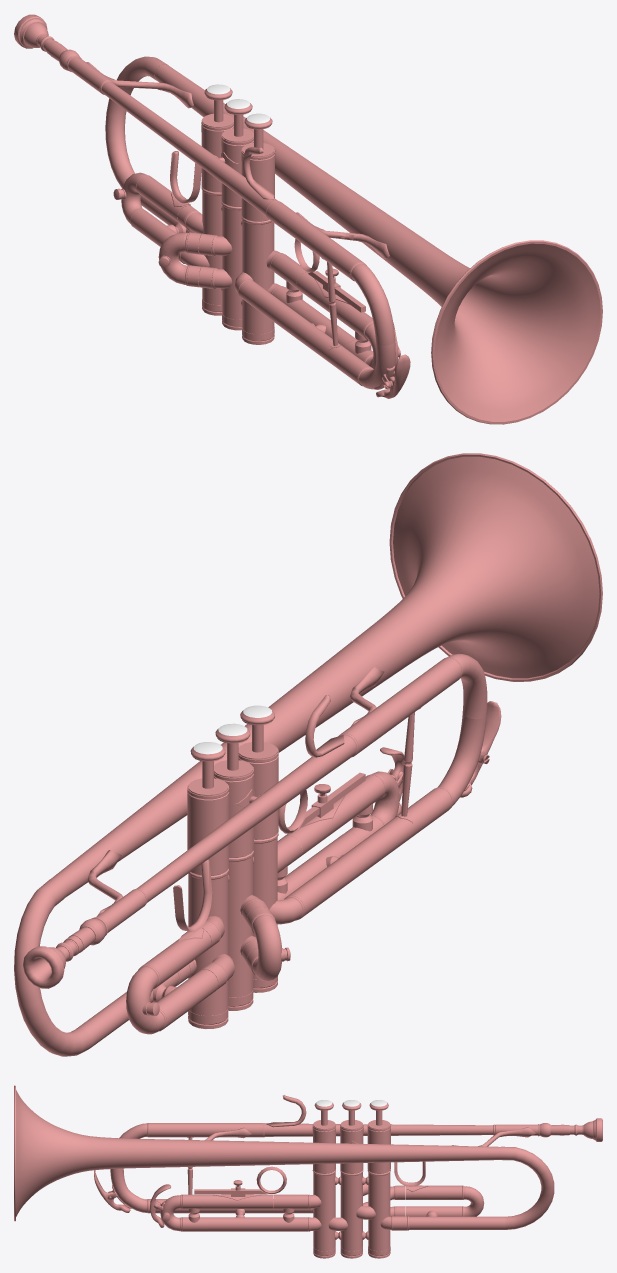
File: Trumpet_jwink_01.obj
3 views of the same model, one above another, from view 1: azimuth 30°, elevation 25°; view 2: azimuth 150°, elevation 25°; view 3: azimuth 270°, elevation 25° (orthographic). The views are drawn at different scales.
Parts seen in each view (by area): view 1: Trumpet_Body, mouthpiece, Handle_3, spit_valve, Handle_1, Valvle_1, Valve_2, Handle_2, Valve_3; view 2: Trumpet_Body, mouthpiece, Handle_3, Handle_1, spit_valve, Handle_2, Valve_2, Valve_3, Valvle_1; view 3: Trumpet_Body, Handle_3, mouthpiece, spit_valve, spit_valve2, Handle_2, Handle_1, Valve_2, Valve_3, Valvle_1.
Part boxes in pixels (x1=…): Trumpet_Body: x1=59, y1=49, x2=602, y2=424; mouthpiece: x1=14, y1=14, x2=67, y2=61; Handle_3: x1=294, y1=239, x2=365, y2=312; spit_valve: x1=374, y1=354, x2=410, y2=398; Handle_1: x1=170, y1=151, x2=201, y2=206; Valvle_1: x1=204, y1=84, x2=232, y2=122; Valve_2: x1=224, y1=99, x2=252, y2=136; Handle_2: x1=243, y1=147, x2=274, y2=199; Valve_3: x1=244, y1=113, x2=272, y2=149; Trumpet_Body: x1=14, y1=453, x2=602, y2=1056; mouthpiece: x1=23, y1=927, x2=95, y2=988; Handle_3: x1=278, y1=772, x2=365, y2=833; Handle_1: x1=173, y1=859, x2=212, y2=942; spit_valve: x1=460, y1=701, x2=501, y2=797; Handle_2: x1=305, y1=695, x2=344, y2=757; Valve_2: x1=215, y1=723, x2=250, y2=770; Valve_3: x1=240, y1=705, x2=274, y2=752; Valvle_1: x1=190, y1=742, x2=225, y2=788; Trumpet_Body: x1=14, y1=1085, x2=554, y2=1258; Handle_3: x1=194, y1=1166, x2=286, y2=1200; mouthpiece: x1=550, y1=1118, x2=602, y2=1141; spit_valve: x1=94, y1=1170, x2=131, y2=1212; spit_valve2: x1=150, y1=1184, x2=170, y2=1227; Handle_2: x1=266, y1=1095, x2=306, y2=1127; Handle_1: x1=394, y1=1161, x2=427, y2=1191; Valve_2: x1=342, y1=1100, x2=361, y2=1125; Valve_3: x1=314, y1=1100, x2=333, y2=1125; Valvle_1: x1=369, y1=1100, x2=388, y2=1125.
Bounding box in the file's own units: 45.12 × 59.74 × 184.
